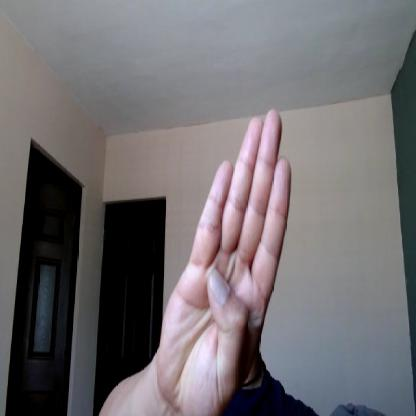B: (157, 105, 292, 415)
